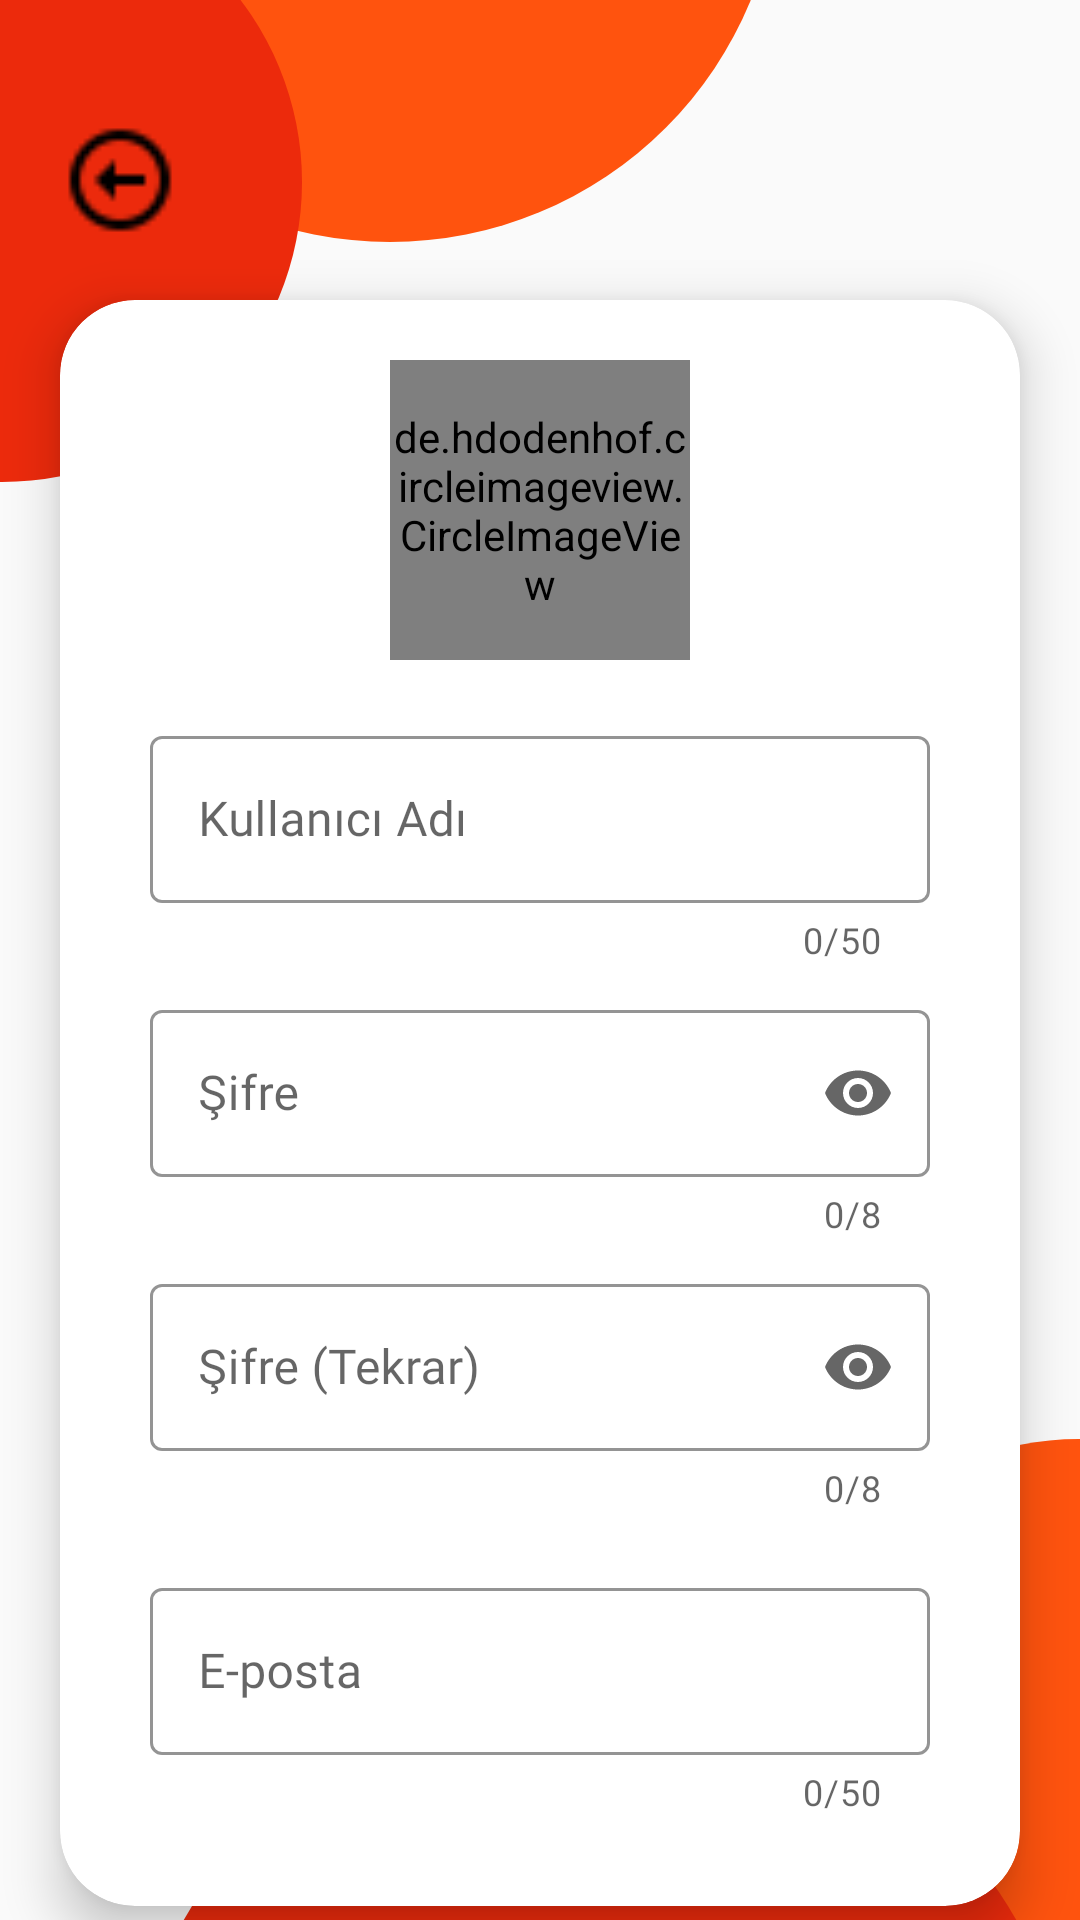

Icon click points for this 1080w x 1920h phone screenshot, format [x,y]:
back: [120,180]
